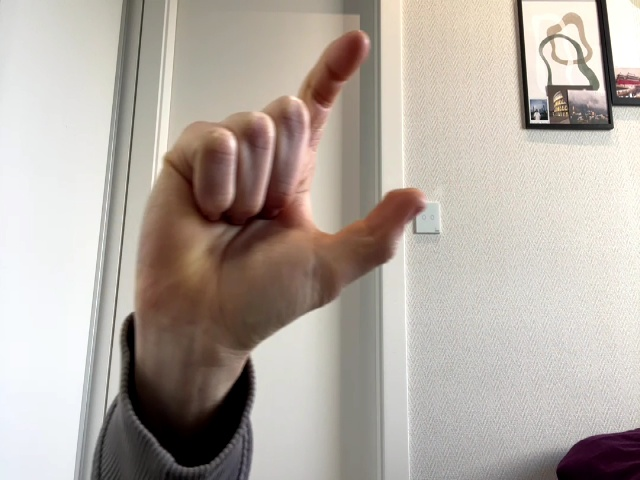C: (137, 30, 424, 352)
